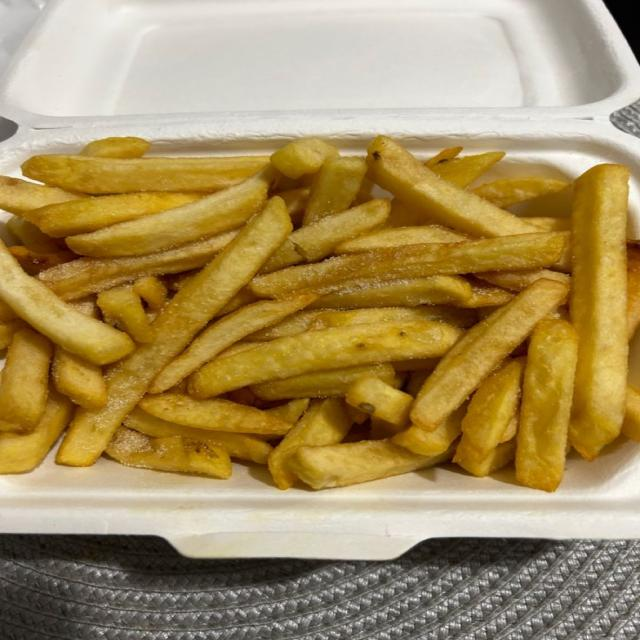potato fries: (0, 137, 639, 490), (57, 198, 291, 465), (411, 280, 568, 430), (189, 321, 459, 397), (251, 233, 569, 297), (67, 171, 273, 257), (570, 165, 628, 459), (368, 136, 536, 236), (150, 293, 316, 393), (0, 242, 133, 364), (39, 231, 237, 300), (516, 320, 578, 491), (22, 155, 268, 194), (125, 408, 273, 463), (289, 440, 453, 489), (25, 192, 202, 237), (268, 398, 351, 489), (106, 427, 231, 478), (139, 393, 291, 434), (0, 390, 73, 473), (462, 360, 523, 459), (310, 276, 473, 309), (0, 329, 52, 432), (251, 363, 395, 400), (303, 158, 366, 225), (334, 225, 468, 253), (392, 406, 466, 456), (346, 376, 413, 427), (52, 346, 106, 408), (0, 177, 85, 216), (98, 286, 153, 342), (472, 178, 568, 208), (426, 152, 505, 188), (271, 139, 339, 178), (80, 137, 151, 158), (627, 244, 639, 339)
